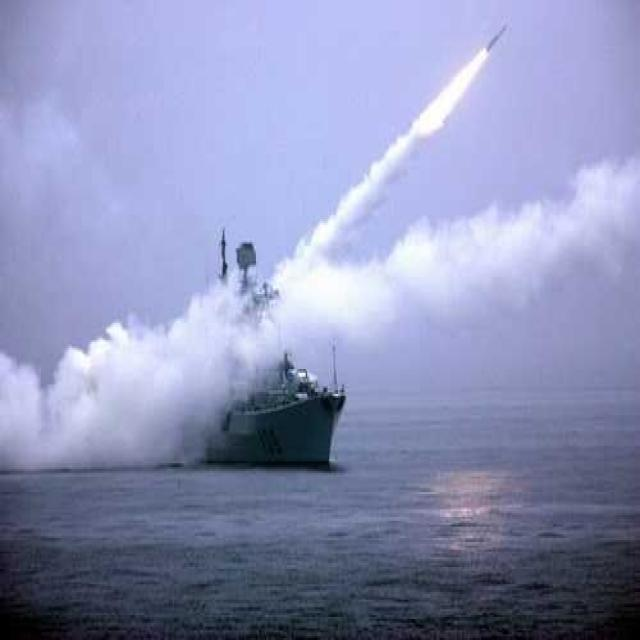missile: (484, 24, 507, 54)
